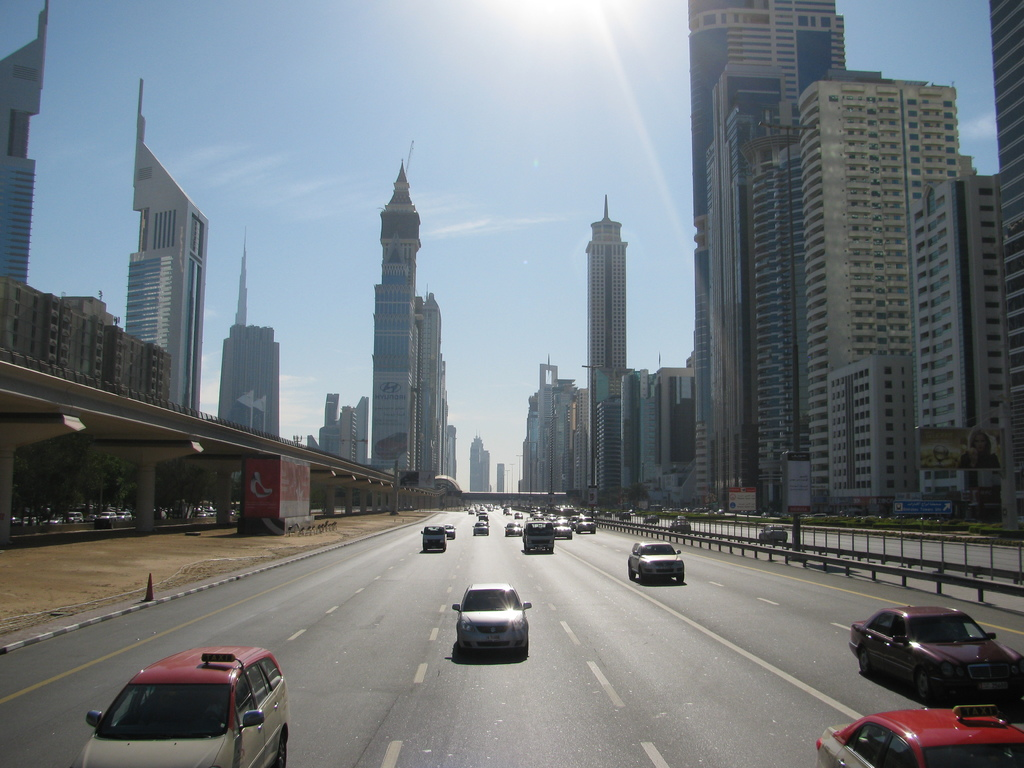Car: (83, 641, 288, 767), (849, 599, 1023, 709), (817, 698, 1023, 767), (449, 582, 536, 661), (621, 537, 686, 588)
